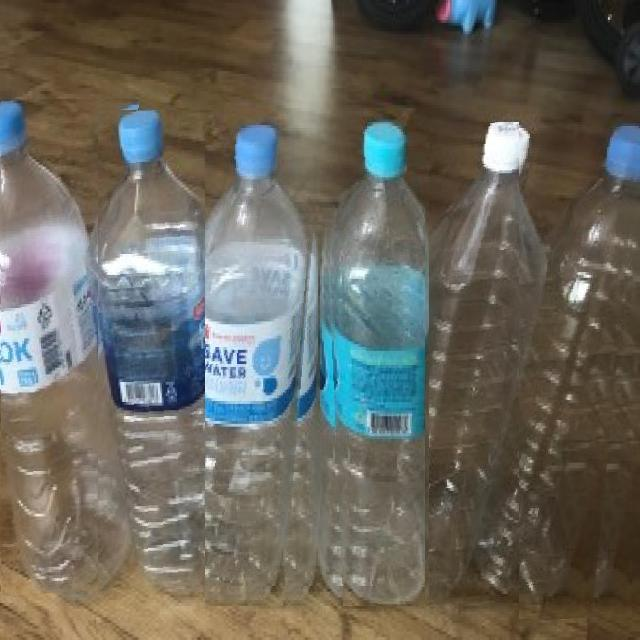plastic bottle: (1, 100, 140, 598), (429, 122, 561, 609), (519, 122, 640, 620), (205, 125, 322, 606), (98, 110, 214, 594), (322, 122, 425, 606)
